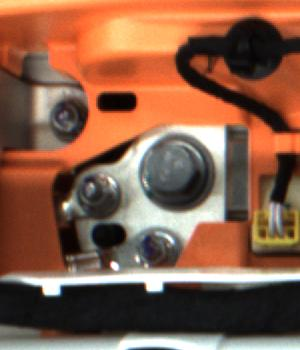nut_b: (138, 135, 214, 208)
screw_s: (76, 171, 118, 211), (42, 103, 82, 144), (132, 228, 174, 266)
